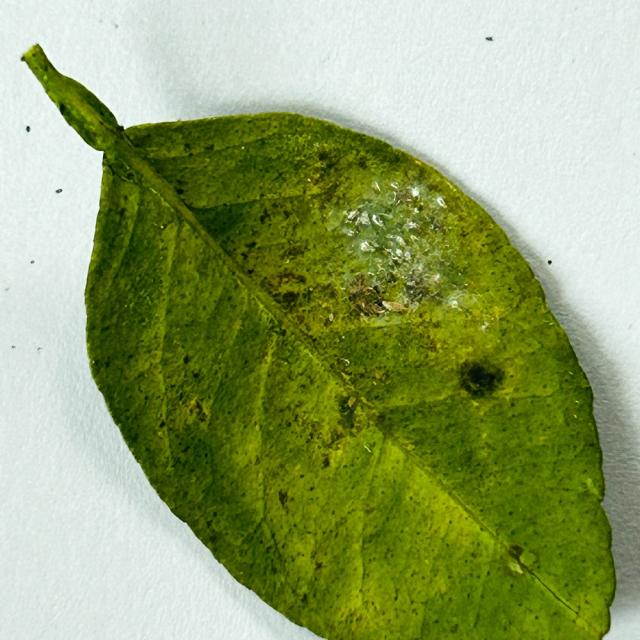Bacterial_Blight: (449, 360, 514, 404), (268, 270, 311, 307), (458, 360, 502, 396), (278, 242, 309, 263), (506, 544, 529, 571), (338, 398, 359, 427), (185, 397, 208, 421), (275, 289, 299, 308), (315, 148, 335, 164), (277, 489, 290, 509), (356, 156, 372, 171), (191, 369, 201, 379), (182, 354, 191, 365), (174, 187, 185, 195)
Lemon: (20, 45, 618, 639)
